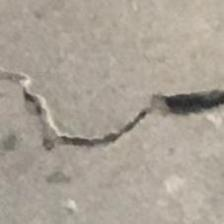Crack: (0, 66, 224, 158)
